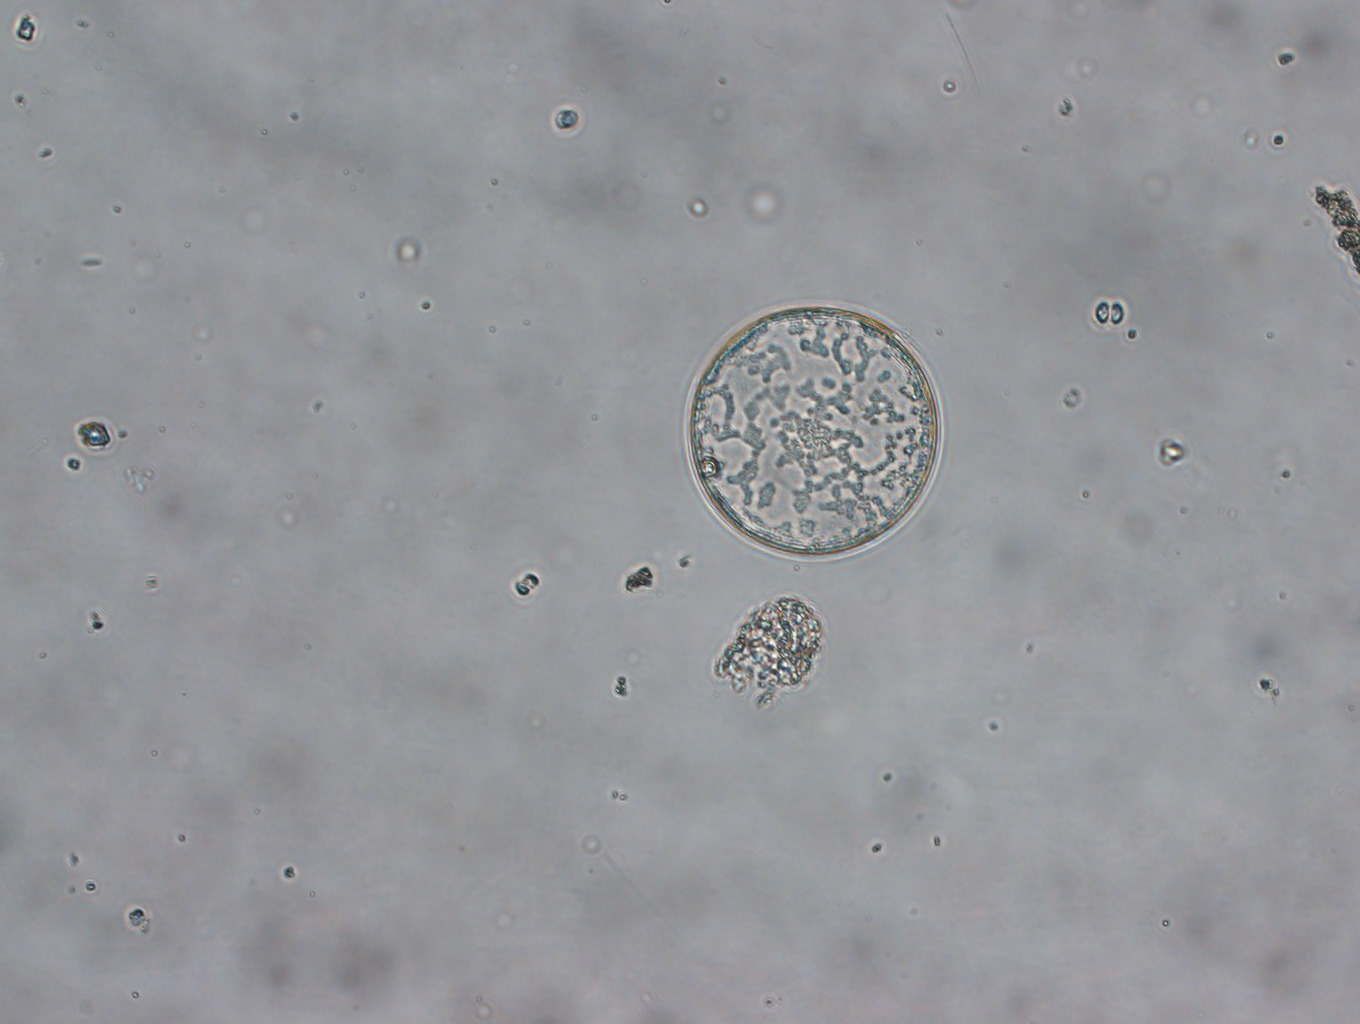coscinodiscus: (679, 302, 944, 561)
